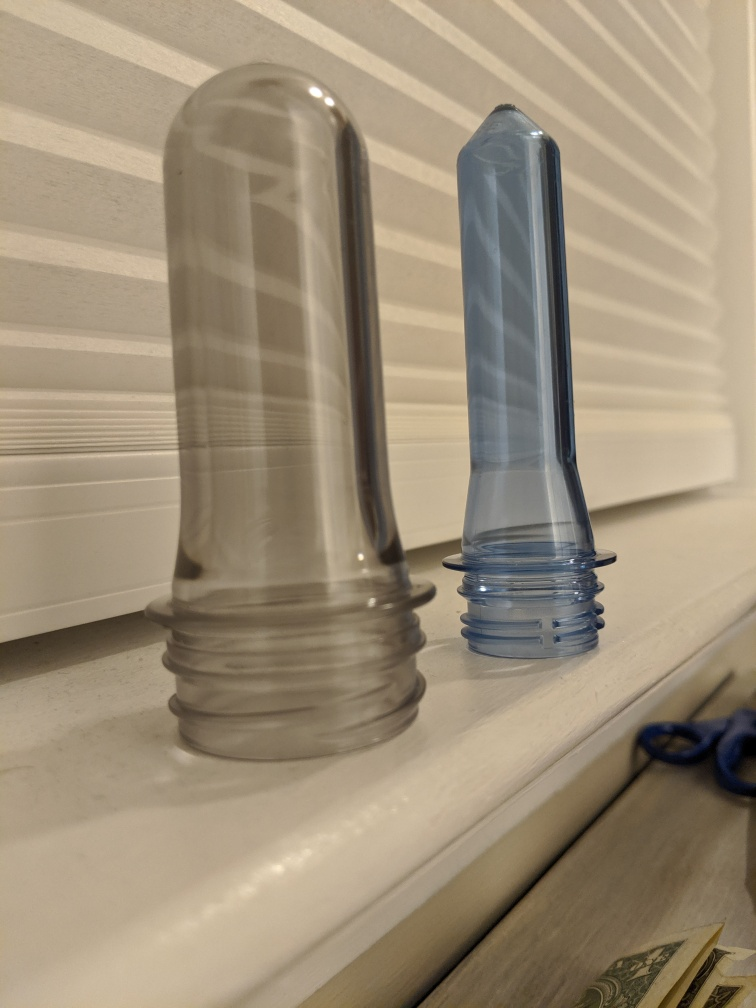preform: (129, 50, 445, 775), (437, 93, 625, 670)
